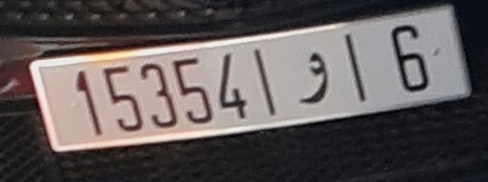1: (69, 65, 103, 138)
3: (132, 58, 181, 133)
4: (212, 46, 250, 122)
5: (100, 62, 146, 135), (169, 52, 212, 127)
6: (384, 22, 437, 94)
waw: (294, 45, 335, 107)
